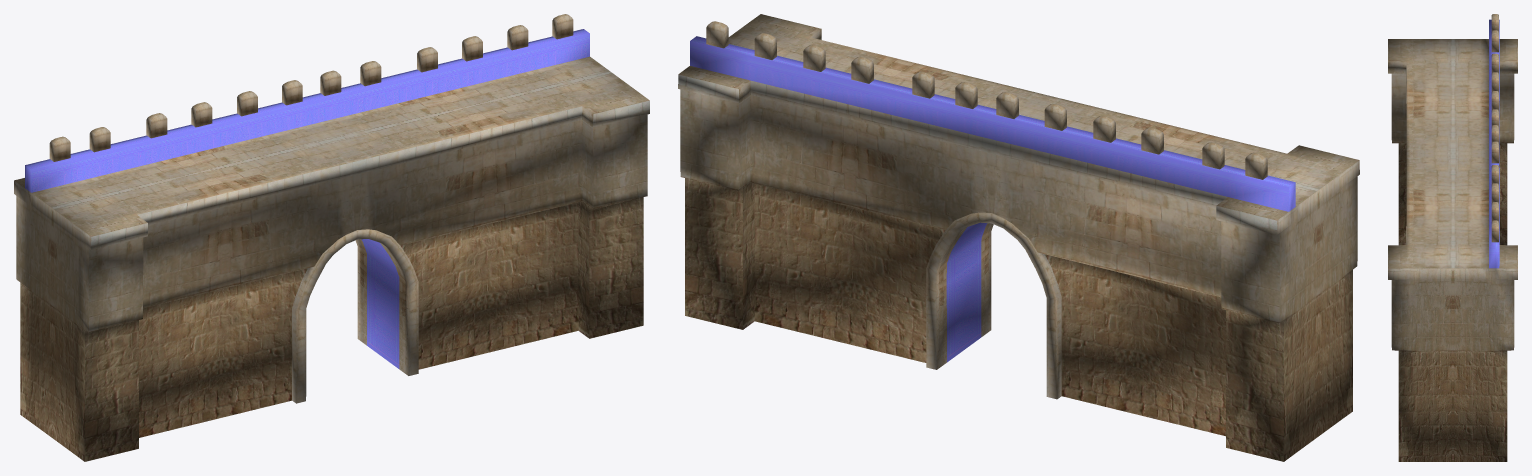
File: entrance.gltf
3 views of the same model, side by side, from view 1: azimuth 30°, elevation 25°; view 2: azimuth 150°, elevation 25°; view 3: azimuth 270°, elevation 25° (orthographic). The views are drawn at different scales.
Visible parts, largest first — view 1: entrance; view 2: entrance; view 3: entrance.
Boxes of the visible parts, <box> form: entrance: <box>14,14,649,461</box>; entrance: <box>678,14,1359,461</box>; entrance: <box>1388,14,1517,461</box>.
Bounding box in the file's own units: 5.57 × 2.61 × 1.33.
Materials: 2 (2 with a texture image).
